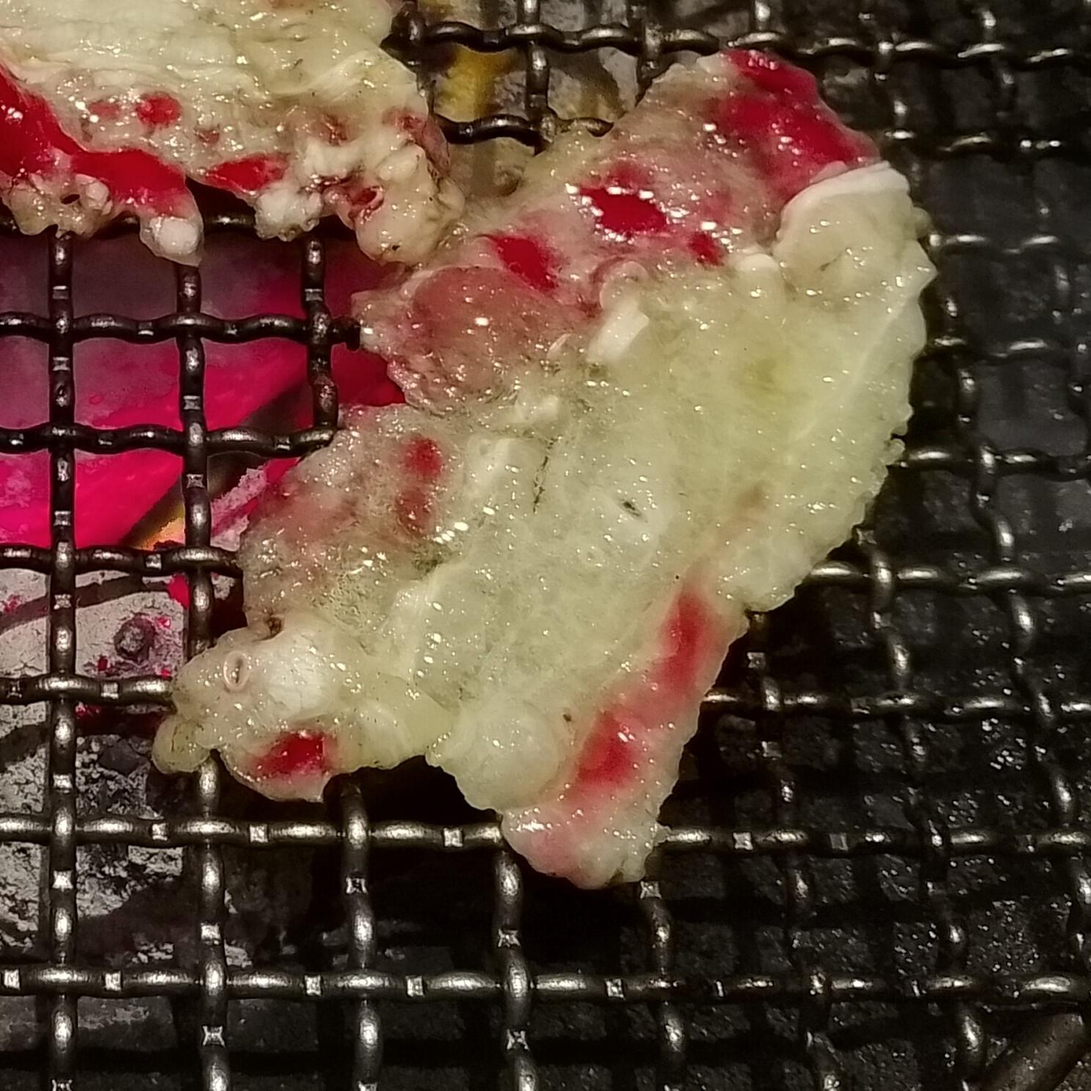Undercooked: (154, 51, 931, 887), (0, 0, 464, 262)
